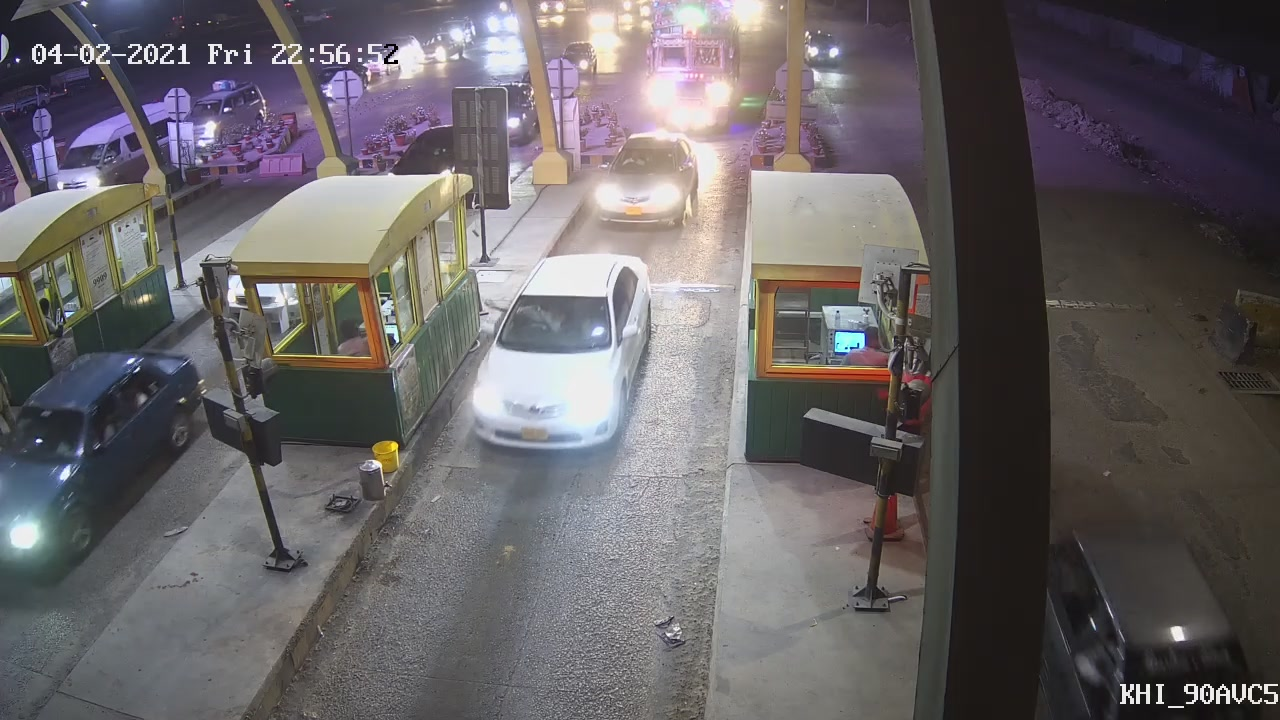F1: (467, 252, 656, 458), (591, 124, 711, 245)
